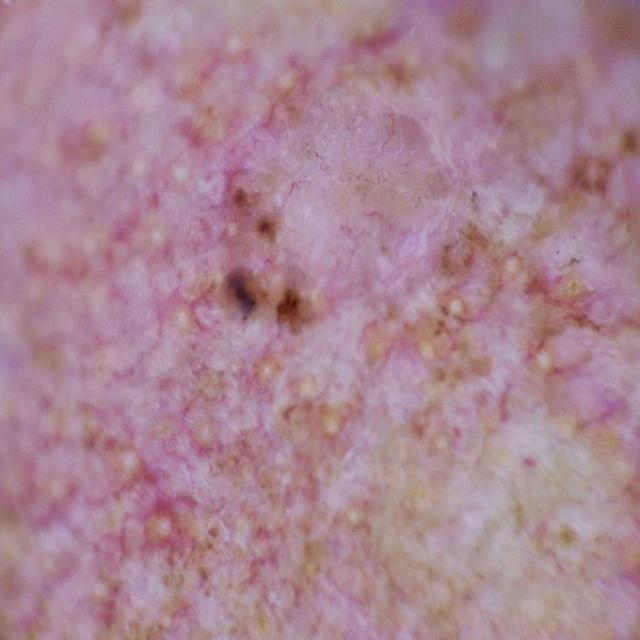Basal-Cell-Carcinoma-BCC-: (29, 46, 579, 548)
